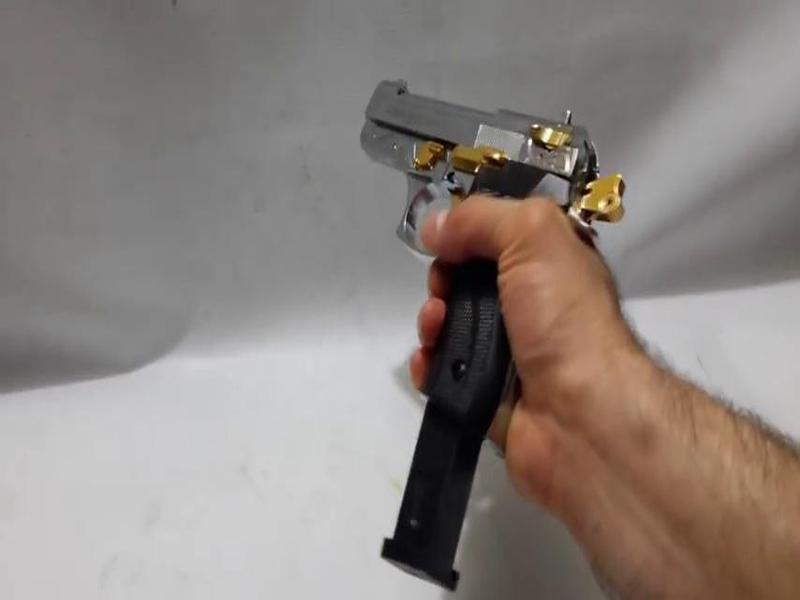Pistola: (292, 64, 635, 433)
